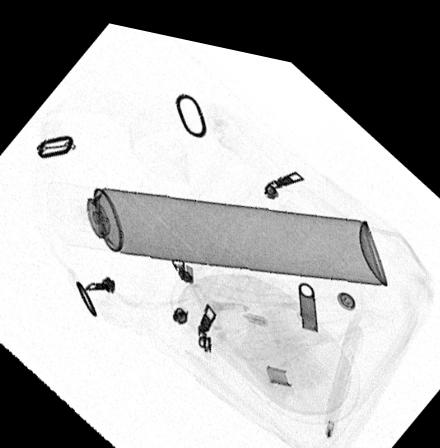Sprayer: (45, 178, 387, 269)
